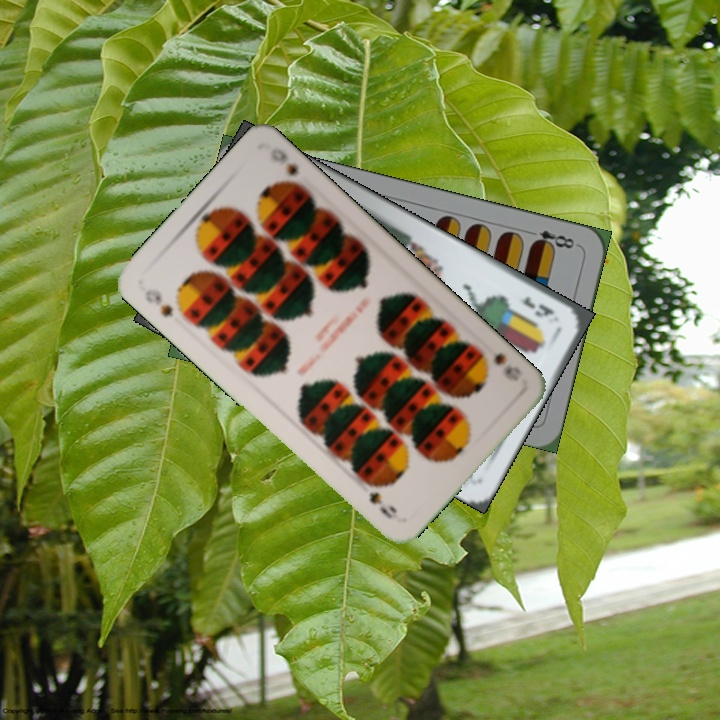E8: (523, 226, 581, 252)
EK: (518, 292, 558, 321)
S9: (474, 346, 525, 384), (140, 285, 176, 320)
